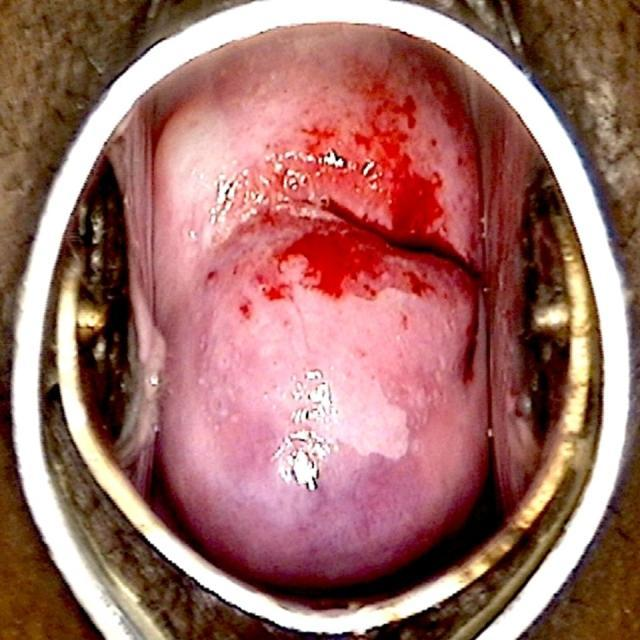cervical_lesion: (169, 91, 488, 514)
